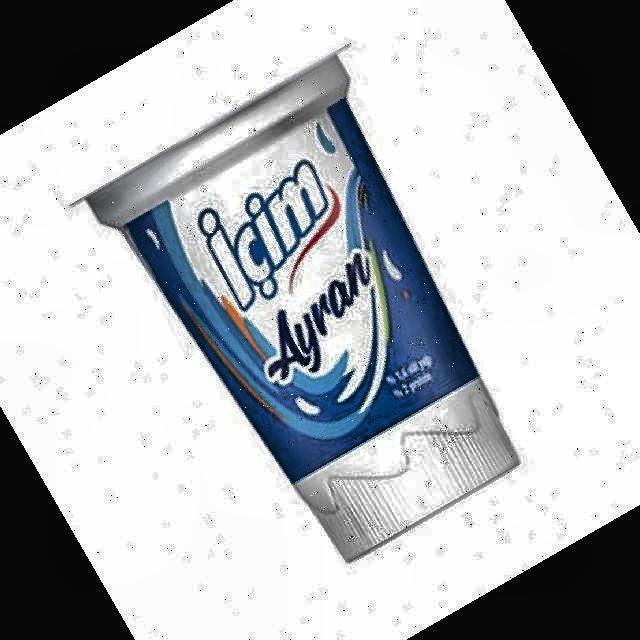plastic: (84, 54, 518, 560)
